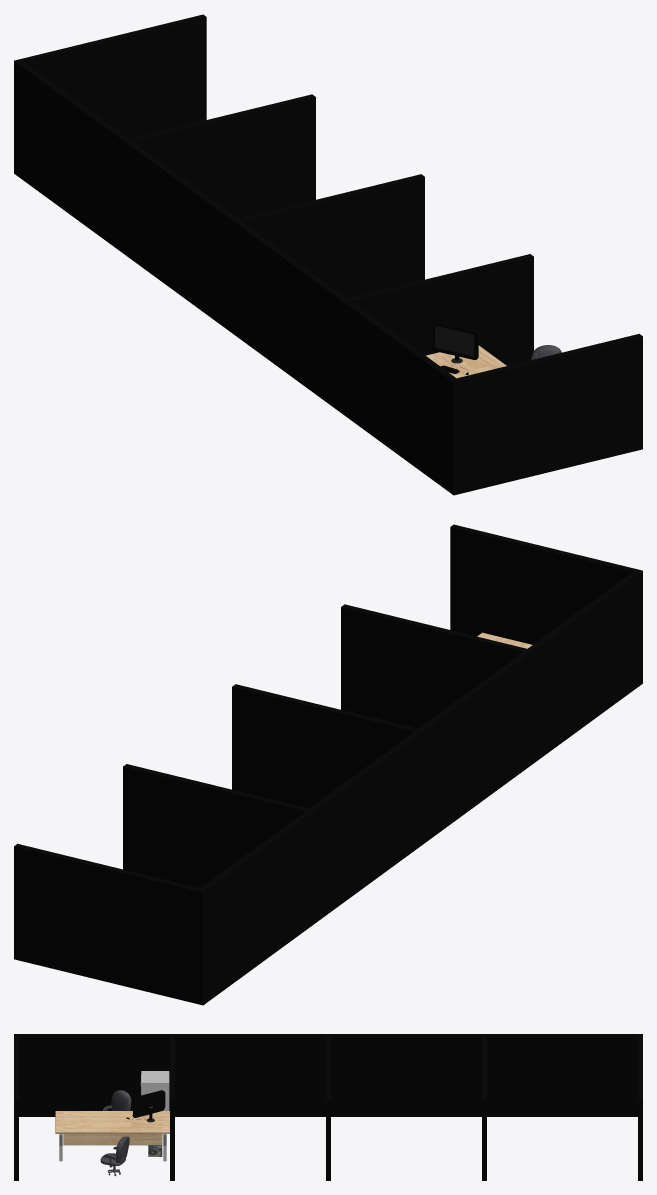
The model's file is โต๊ะรับแจ้งความใหม่1_6_69.fbx.
3 views of the same model, one above another, from view 1: azimuth 30°, elevation 25°; view 2: azimuth 150°, elevation 25°; view 3: azimuth 270°, elevation 25° (orthographic). The views are drawn at different scales.
Parts seen in each view (by area): view 1: Cube, Cube.002, Plane.004; view 2: Cube; view 3: Cube, Cube.002, Cylinder.001, Cube.001, Plane.001, Plane.002.
Boxes of the visible parts, bbox=[...] form: Cube: bbox=[14, 14, 642, 495]; Cube.002: bbox=[426, 345, 506, 378]; Plane.004: bbox=[435, 326, 474, 356]; Cube: bbox=[14, 524, 642, 1005]; Cube: bbox=[14, 1034, 642, 1180]; Cube.002: bbox=[55, 1111, 169, 1161]; Cylinder.001: bbox=[133, 1090, 165, 1122]; Cube.001: bbox=[140, 1071, 169, 1110]; Plane.001: bbox=[100, 1136, 129, 1176]; Plane.002: bbox=[102, 1090, 131, 1110].
Bounding box in the file's own units: 301 × 174 × 1210.
